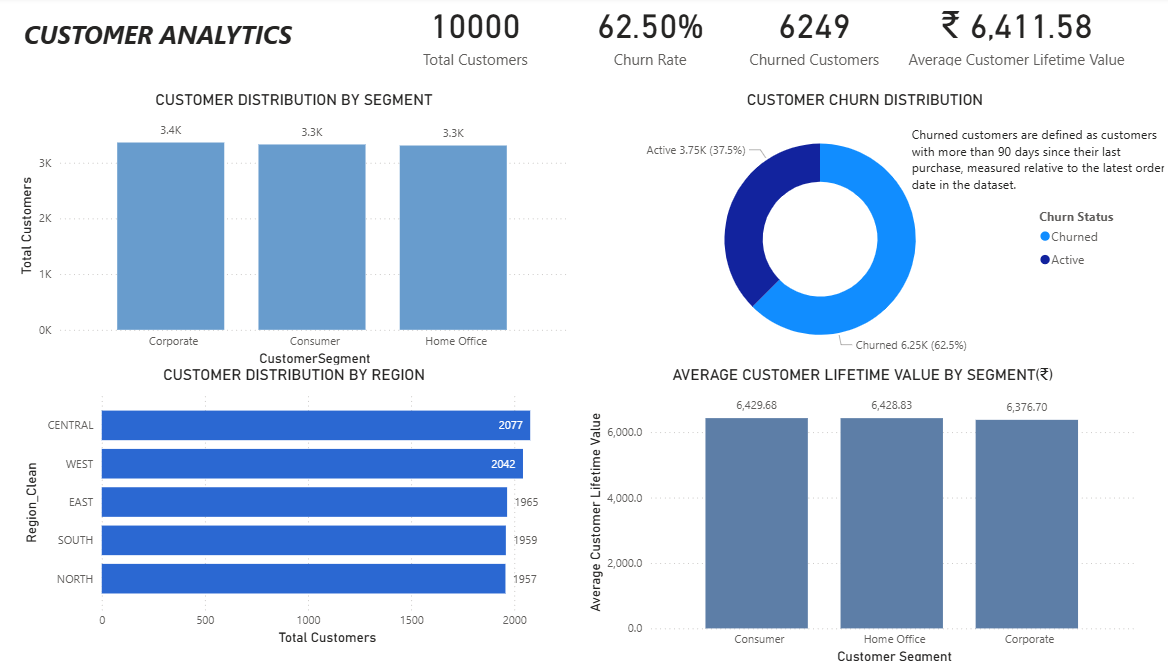

The dashboard page shown, as its layout file describes it:
{"tool":"powerbi","page":{"name":"Customer Analytics","canvas":[1280,720],"ordinal":2},"visuals":[{"type":"card","fields":{"Values":["vw_clean_customers.Total Customers"]},"box":[416,0,204,80],"z":0},{"type":"card","fields":{"Values":["vw_customer_feature_matrix.Churn Rate"]},"box":[604,0,206,80],"z":1000},{"type":"card","fields":{"Values":["vw_customer_feature_matrix.Churned Customers"]},"box":[782,0,204,80],"z":2000},{"type":"card","fields":{"Values":["vw_customer_feature_matrix.Average Customer Lifetime Value"]},"box":[956,0,294,80],"z":3000},{"type":"clusteredColumnChart","title":"CUSTOMER DISTRIBUTION BY SEGMENT","fields":{"Category":["vw_clean_customers.CustomerSegment"],"Y":["vw_clean_customers.Total Customers"]},"box":[26,102,594,296],"z":4000},{"type":"clusteredBarChart","title":"CUSTOMER DISTRIBUTION BY REGION","fields":{"Category":["vw_clean_customers.Region_Clean"],"Y":["vw_clean_customers.Total Customers"]},"box":[26,398,594,306],"z":5000},{"type":"clusteredColumnChart","title":"AVERAGE CUSTOMER LIFETIME VALUE BY SEGMENT(₹)","fields":{"Category":["vw_clean_customers.CustomerSegment"],"Y":["vw_customer_feature_matrix.Average Customer Lifetime Value"]},"box":[640,398,594,322],"z":6000},{"type":"donutChart","title":"CUSTOMER CHURN DISTRIBUTION","fields":{"Y":["CountNonNull(vw_clean_customers.CustomerID)"],"Category":["vw_customer_feature_matrix.Churn Status"]},"box":[654,102,570,296],"z":7000},{"type":"textbox","box":[26,0,370,68],"z":8000},{"type":"textbox","box":[985,135,295,81.7],"z":9000}]}

Visuals, with their boxes in screenshot pixels (x1, y1, x2, y2), scaled from the page's 1280x720 canvas onto the 1168x661 screenshot:
card - vw_clean_customers.Total Customers: rect(380, 0, 566, 73)
card - vw_customer_feature_matrix.Churn Rate: rect(551, 0, 739, 73)
card - vw_customer_feature_matrix.Churned Customers: rect(714, 0, 900, 73)
card - vw_customer_feature_matrix.Average Customer Lifetime Value: rect(872, 0, 1141, 73)
"CUSTOMER DISTRIBUTION BY SEGMENT" clusteredColumnChart: rect(24, 94, 566, 365)
"CUSTOMER DISTRIBUTION BY REGION" clusteredBarChart: rect(24, 365, 566, 646)
"AVERAGE CUSTOMER LIFETIME VALUE BY SEGMENT(₹)" clusteredColumnChart: rect(584, 365, 1126, 660)
"CUSTOMER CHURN DISTRIBUTION" donutChart: rect(597, 94, 1117, 365)
textbox: rect(24, 0, 361, 62)
textbox: rect(899, 124, 1167, 199)
